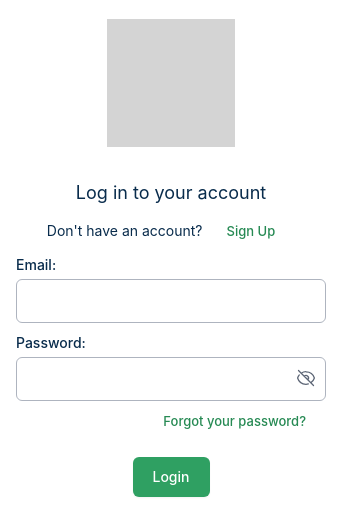
Test: VerdocsAuthComponent › routes unverified logins to the verification step
The width and height of the screenshot is (343, 514).
Type "test@example.com" into the field labelled "Email:" at x=171, y=301, box x1=16 y1=279 x2=326 y2=323
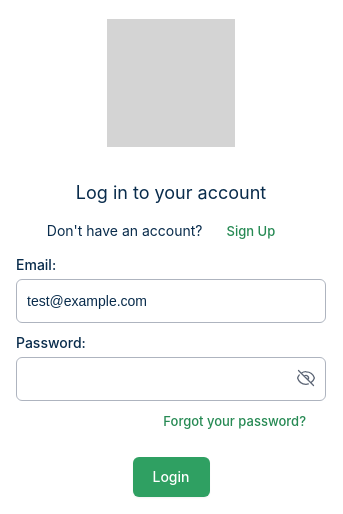
Type "Password1!" into the password field labelled "Password:" at x=171, y=379, box x1=16 y1=357 x2=326 y2=401
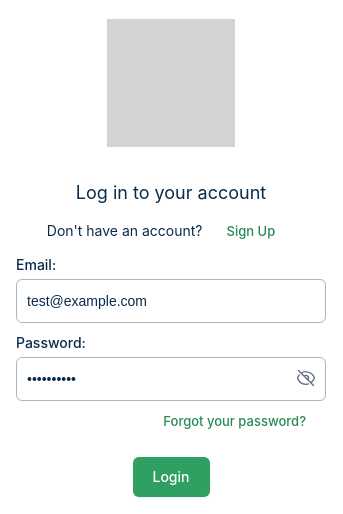
Submit the form, box x1=16 y1=255 x2=326 y2=497
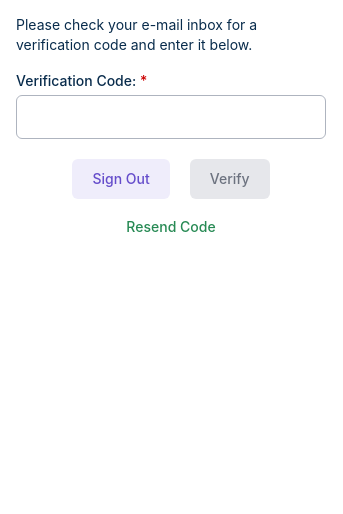
Expected: the text "verification code" is shown, x1=16 y1=16 x2=257 y2=53
